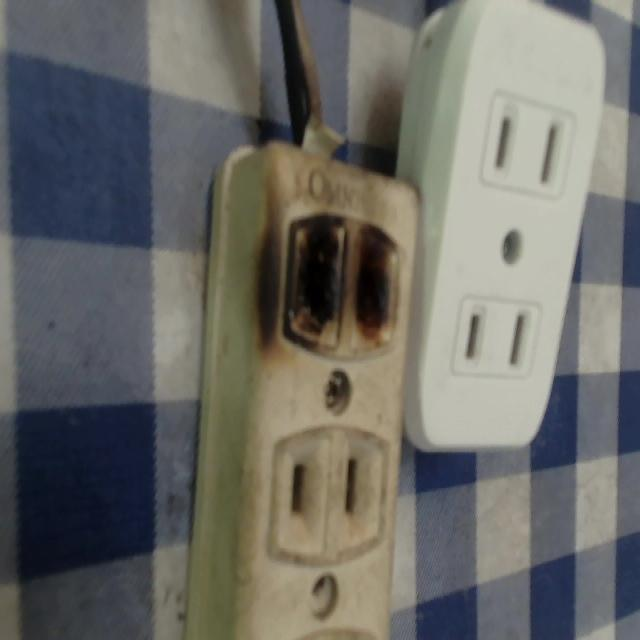-: (266, 205, 408, 358)
